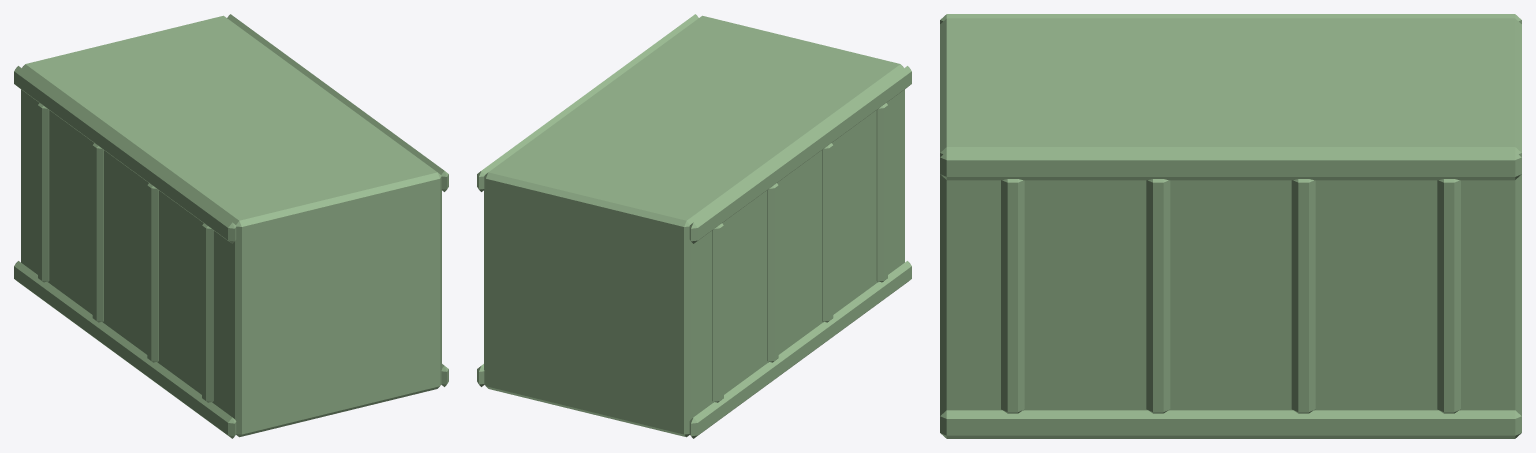
Rendered from SM_Container_1p2x1p2x2p2.glb.
3 views of the same model, side by side, from view 1: azimuth 30°, elevation 25°; view 2: azimuth 150°, elevation 25°; view 3: azimuth 270°, elevation 25° (orthographic). The views are drawn at different scales.
Parts seen in each view (by area): view 1: SM_Container_1p2x1p2x2p2; view 2: SM_Container_1p2x1p2x2p2; view 3: SM_Container_1p2x1p2x2p2.
Boxes of the visible parts, bbox=[...] form: SM_Container_1p2x1p2x2p2: bbox=[14, 14, 448, 438]; SM_Container_1p2x1p2x2p2: bbox=[477, 14, 911, 438]; SM_Container_1p2x1p2x2p2: bbox=[940, 14, 1521, 438].
Bounding box in the file's own units: 1.28 × 1.2 × 2.2.
